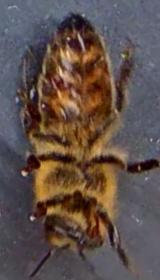varroa_mite: (38, 70, 64, 94)
